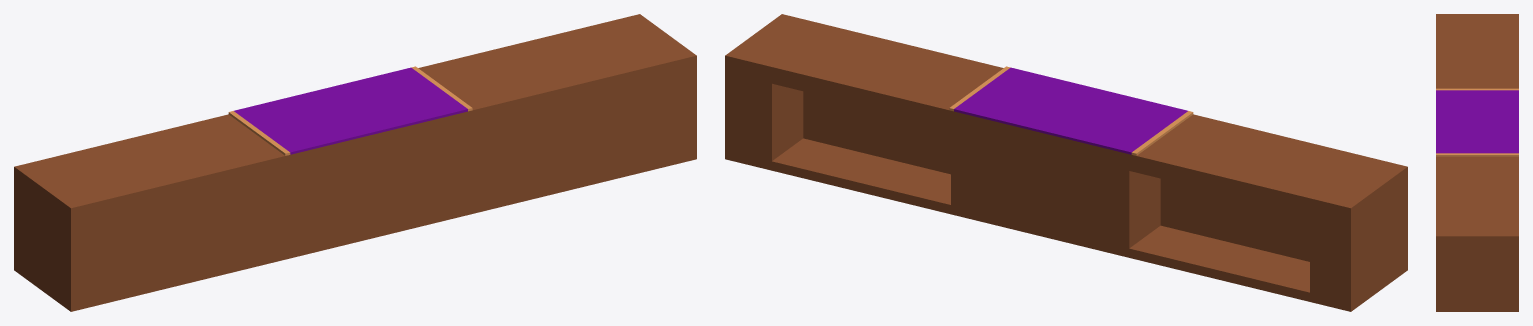
Rendered from Table.fbx.
3 views of the same model, side by side, from view 1: azimuth 30°, elevation 25°; view 2: azimuth 150°, elevation 25°; view 3: azimuth 270°, elevation 25° (orthographic). The views are drawn at different scales.
Parts seen in each view (by area): view 1: Cube; view 2: Cube; view 3: Cube.
Boxes of the visible parts, <box> form: Cube: <box>14,14,696,311</box>; Cube: <box>725,14,1407,311</box>; Cube: <box>1436,14,1518,311</box>.
Bounding box in the file's own units: 697 × 113 × 110.
